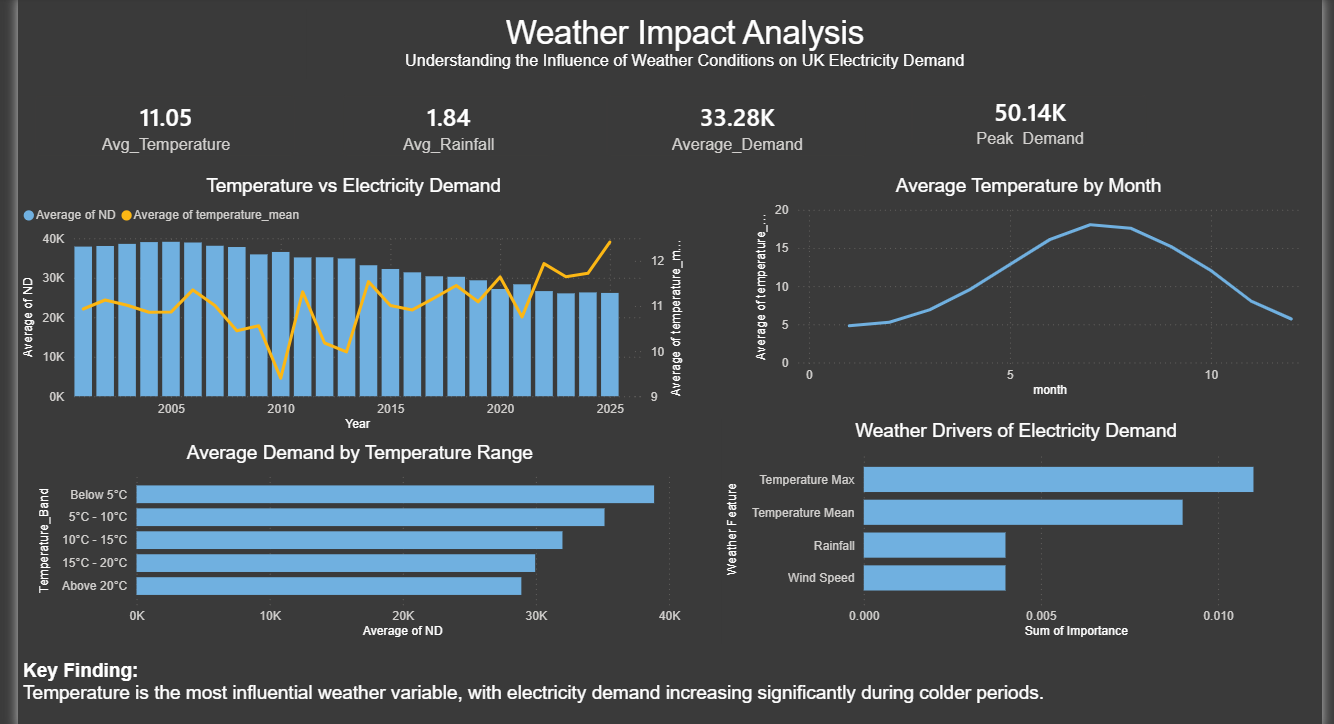

The page's visual inventory and layout, read from the dashboard file:
{"tool":"powerbi","page":{"name":"Weather Impact Analysis","canvas":[1280,720],"ordinal":3},"visuals":[{"type":"textbox","box":[283.4,12.3,742.3,78.5],"z":0},{"type":"cardVisual","fields":{"Data":["energy_features_v3.Avg_Temperature"]},"box":[0,79.8,289.6,94.5],"z":1000},{"type":"cardVisual","fields":{"Data":["energy_features_v3.Avg_Rainfall"]},"box":[301.8,79.8,240.5,94.5],"z":2000},{"type":"cardVisual","fields":{"Data":["energy_features_v3.Average_Demand"]},"box":[560.7,79.8,289.6,94.5],"z":3000},{"type":"cardVisual","fields":{"Data":["energy_features_v3.Peak_Demand"]},"box":[860.1,79.8,265,83.4],"z":4000},{"type":"lineClusteredColumnComboChart","title":"Temperature vs Electricity Demand","fields":{"Category":["energy_features_v3.SETTLEMENT_DATE.Variation.Date Hierarchy.Year","energy_features_v3.SETTLEMENT_DATE.Variation.Date Hierarchy.Quarter","energy_features_v3.SETTLEMENT_DATE.Variation.Date Hierarchy.Month","energy_features_v3.SETTLEMENT_DATE.Variation.Date Hierarchy.Day"],"Y2":["Avg(energy_features_v3.temperature_mean)"],"Y":["Avg(energy_features_v3.ND)"]},"box":[0,174.2,658.9,256.4],"z":5000},{"type":"lineChart","title":"Average Temperature by Month","fields":{"Y":["Avg(energy_features_v3.temperature_mean)"],"Category":["energy_features_v3.month"]},"box":[719,174.2,546,223.3],"z":6000},{"type":"clusteredBarChart","title":"Average Demand by Temperature Range","fields":{"Category":["energy_features_v3.Temperature_Band"],"Y":["Avg(energy_features_v3.ND)"]},"box":[16,436.8,639.3,197.5],"z":7000},{"type":"clusteredBarChart","title":"Weather Drivers of Electricity Demand","fields":{"Category":["Weather_Importance.Weather Feature"],"Y":["Sum(Weather_Importance.Importance)"]},"box":[690.8,414.7,577.9,219.6],"z":8000},{"type":"textbox","box":[0,645.4,1219.6,65],"z":9000}]}

Visuals, with their boxes on the page's 1280x720 design canvas (x1, y1, x2, y2). These are canvas units, not pixel positions in the 1334x724 screenshot, which may show the page scaled, cropped or inside an application window:
textbox: pyautogui.locateOnScreen(283, 12, 1026, 91)
cardVisual - energy_features_v3.Avg_Temperature: pyautogui.locateOnScreen(0, 80, 290, 174)
cardVisual - energy_features_v3.Avg_Rainfall: pyautogui.locateOnScreen(302, 80, 542, 174)
cardVisual - energy_features_v3.Average_Demand: pyautogui.locateOnScreen(561, 80, 850, 174)
cardVisual - energy_features_v3.Peak_Demand: pyautogui.locateOnScreen(860, 80, 1125, 163)
"Temperature vs Electricity Demand" lineClusteredColumnComboChart: pyautogui.locateOnScreen(0, 174, 659, 431)
"Average Temperature by Month" lineChart: pyautogui.locateOnScreen(719, 174, 1265, 398)
"Average Demand by Temperature Range" clusteredBarChart: pyautogui.locateOnScreen(16, 437, 655, 634)
"Weather Drivers of Electricity Demand" clusteredBarChart: pyautogui.locateOnScreen(691, 415, 1269, 634)
textbox: pyautogui.locateOnScreen(0, 645, 1220, 710)
